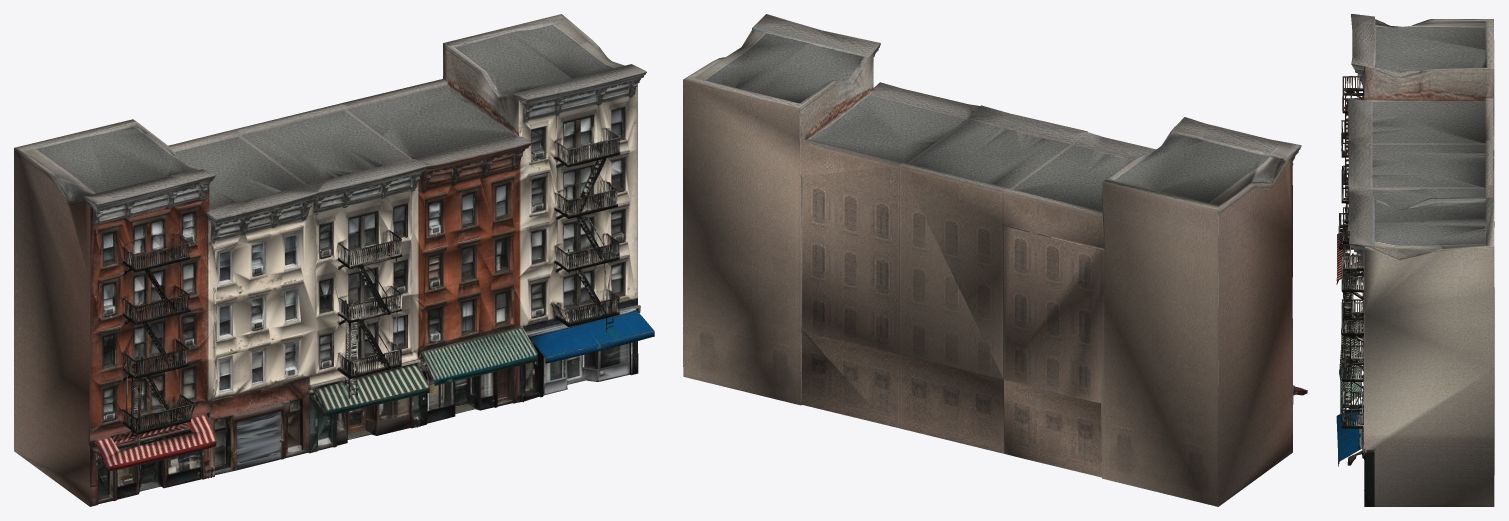
File: row_five_b_hq.glb
3 renders of one model, left to right at view 1: azimuth 30°, elevation 25°; view 2: azimuth 150°, elevation 25°; view 3: azimuth 270°, elevation 25°, orthographic. The views are drawn at different scales.
Parts seen in each view (by area): view 1: mesh_node; view 2: mesh_node; view 3: mesh_node.
Boxes of the visible parts, x1=… form: mesh_node: x1=14, y1=14, x2=654, y2=506; mesh_node: x1=683, y1=14, x2=1307, y2=506; mesh_node: x1=1336, y1=14, x2=1494, y2=506.
Bounding box in the file's own units: 31.65 × 17 × 9.21.
Materials: 1 (1 with a texture image).
